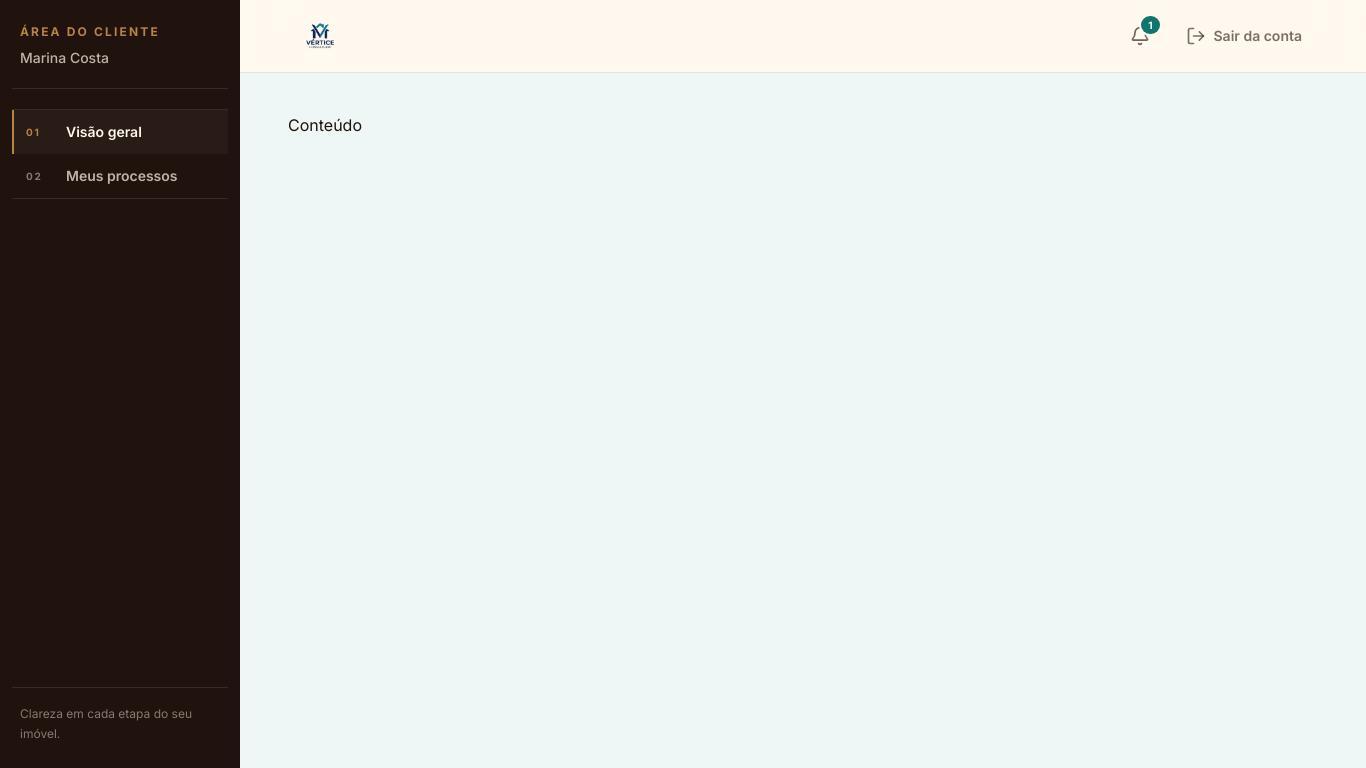
Test: PortalShell › uses notification disclosure semantics and restores focus on Escape
This screenshot has width=1366, height=768.
Click the button named "Notificações, 1 não lida": (1140, 36) [1118, 14, 1162, 58]
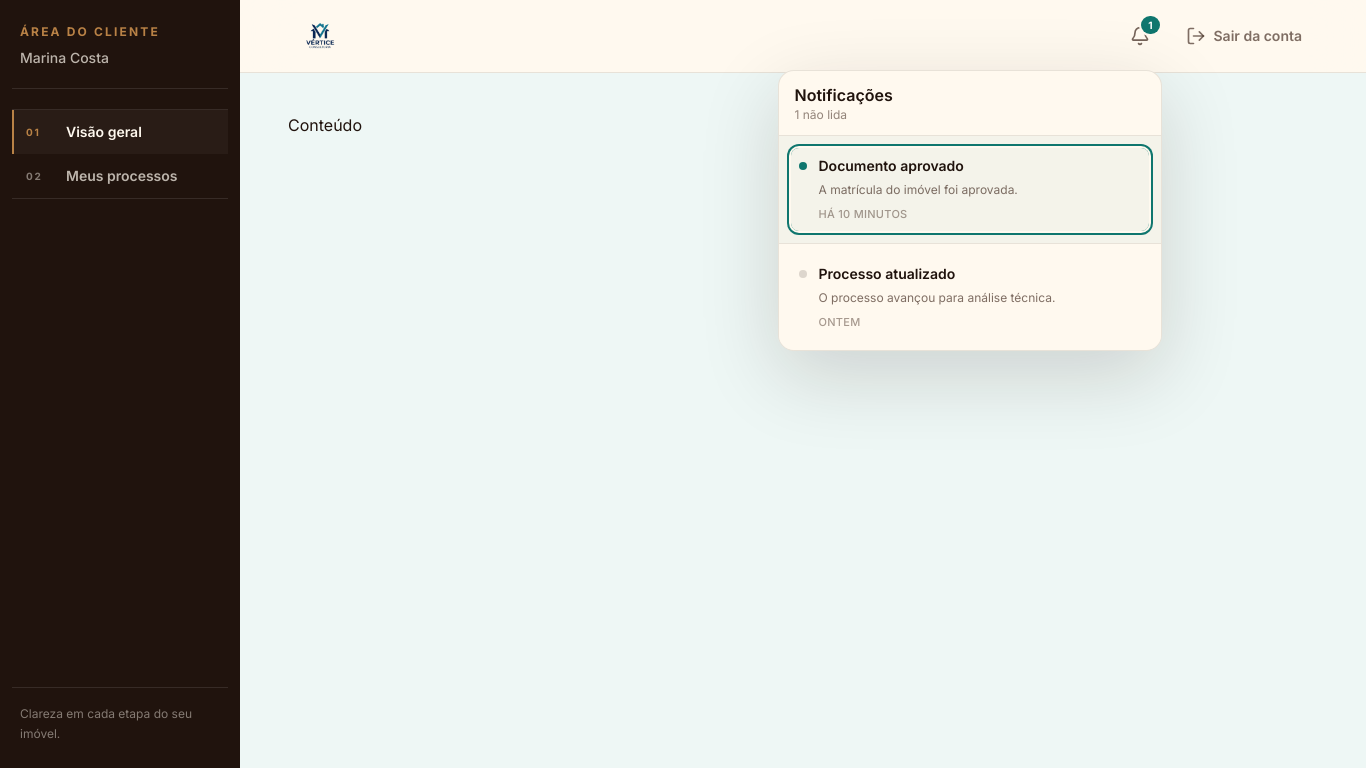
Press Escape
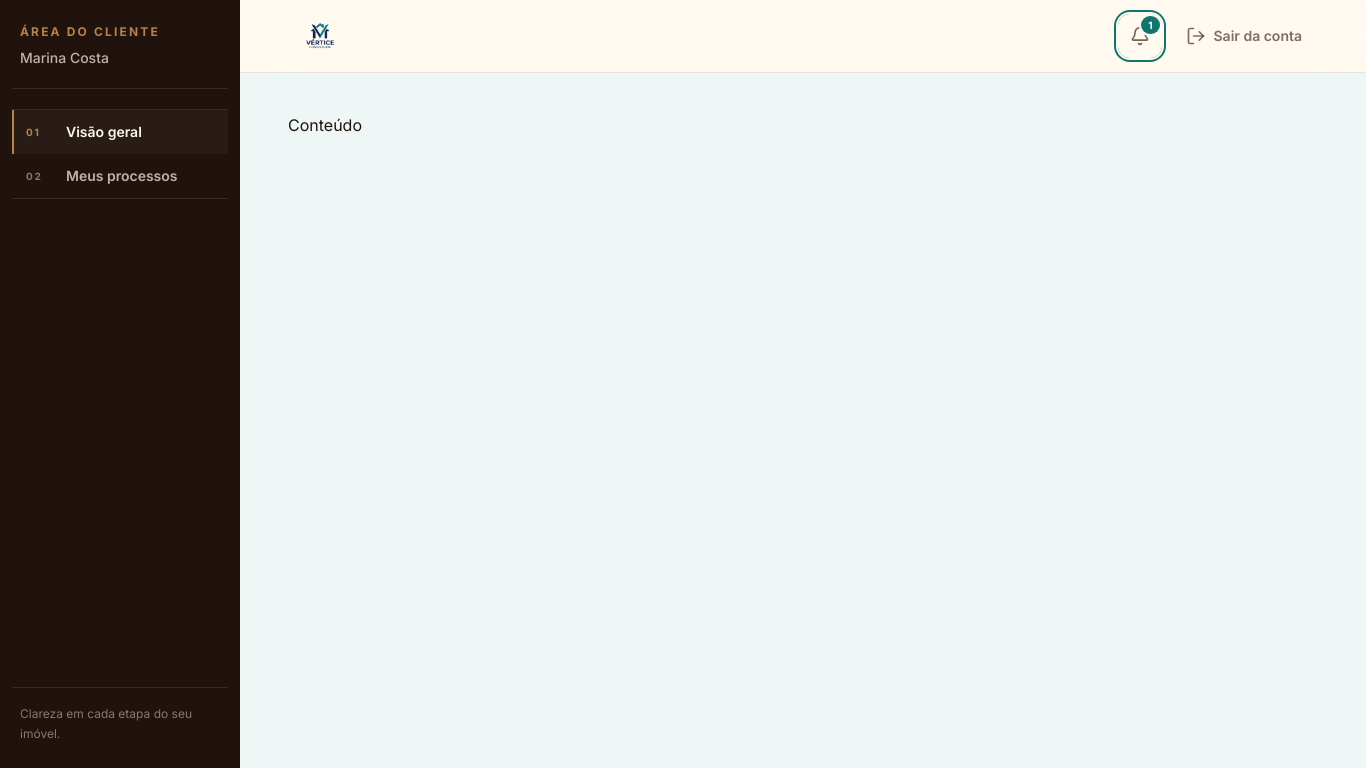
Expected: the text "Notificações" is gone
